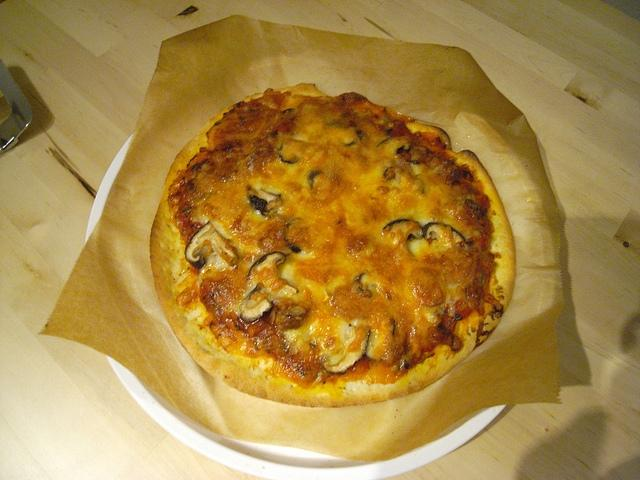mushroom: (246, 252, 297, 294), (322, 331, 370, 375), (240, 284, 274, 323), (185, 221, 211, 268), (248, 186, 284, 218), (421, 222, 467, 244), (384, 219, 416, 241), (377, 136, 412, 155), (396, 145, 426, 165), (354, 272, 369, 293), (308, 170, 322, 189), (344, 131, 358, 146), (374, 136, 388, 148)
